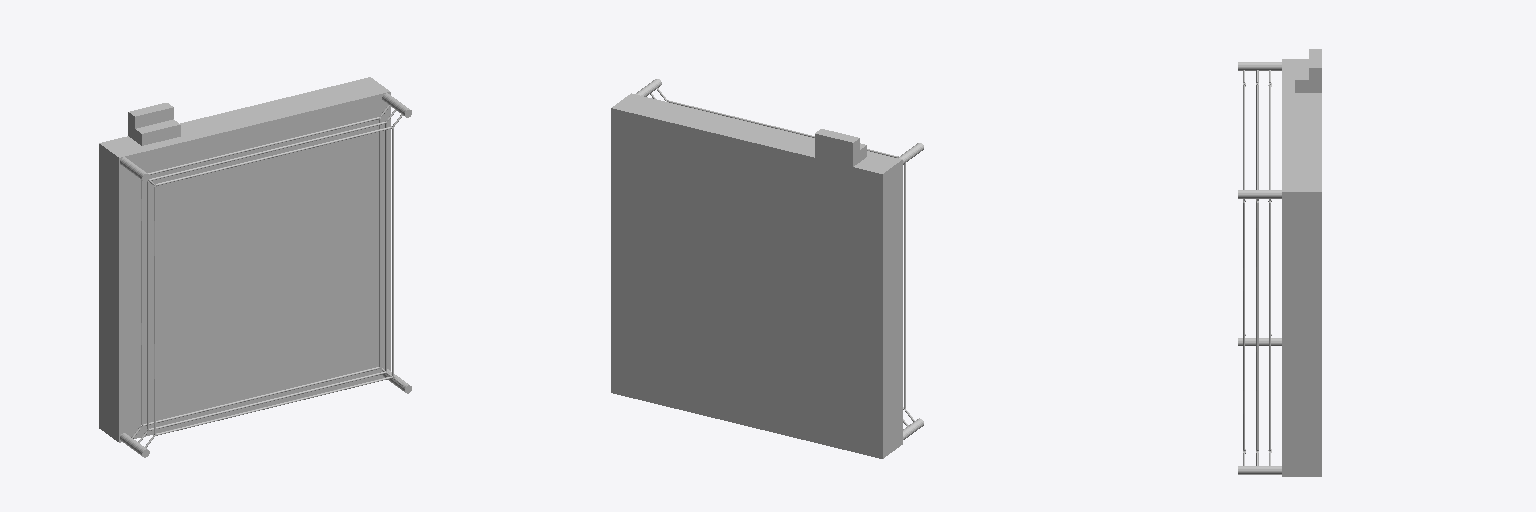
Rendered from ringueNew.obj.
3 views of the same model, side by side, from view 1: azimuth 30°, elevation 25°; view 2: azimuth 150°, elevation 25°; view 3: azimuth 270°, elevation 25° (orthographic).
Visible parts, largest first — view 1: locator7_Mesh, pCube3_Mesh.001; view 2: locator7_Mesh, pCube3_Mesh.001; view 3: locator7_Mesh, pCube3_Mesh.001.
Part boxes in pixels (x1,y1,x2,y2): locator7_Mesh: (99,77,411,457); pCube3_Mesh.001: (128,103,180,145); locator7_Mesh: (611,79,923,458); pCube3_Mesh.001: (815,129,866,166); locator7_Mesh: (1238,59,1321,476); pCube3_Mesh.001: (1295,49,1321,92).
Size of the model in its own units: 351 by 382 by 94.87.